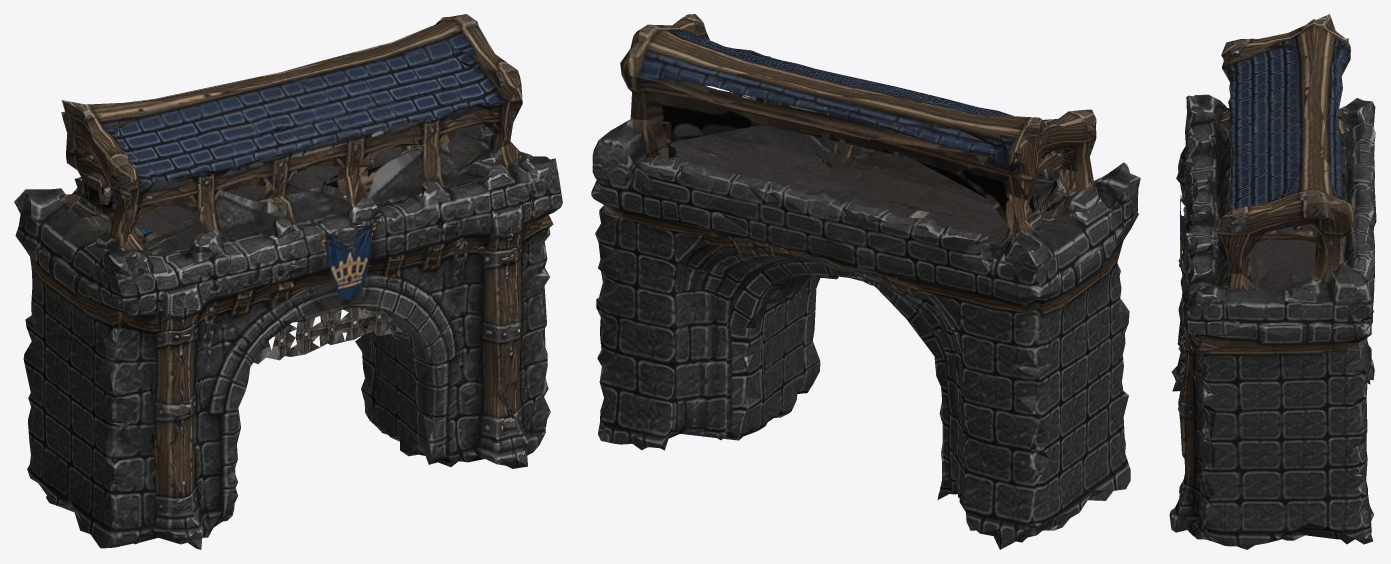
The model's file is war_gatehouse.glb.
3 renders of one model, left to right at view 1: azimuth 30°, elevation 25°; view 2: azimuth 150°, elevation 25°; view 3: azimuth 270°, elevation 25°, orthographic. The views are drawn at different scales.
Visible parts, largest first — view 1: output_unwrapped; view 2: output_unwrapped; view 3: output_unwrapped.
Part boxes in pixels (bbox=[...]): output_unwrapped: bbox=[14, 14, 562, 549]; output_unwrapped: bbox=[591, 14, 1140, 549]; output_unwrapped: bbox=[1169, 14, 1376, 549].
Bounding box in the file's own units: 1.88 × 1.61 × 0.8404.
1 material, 1 textured.
